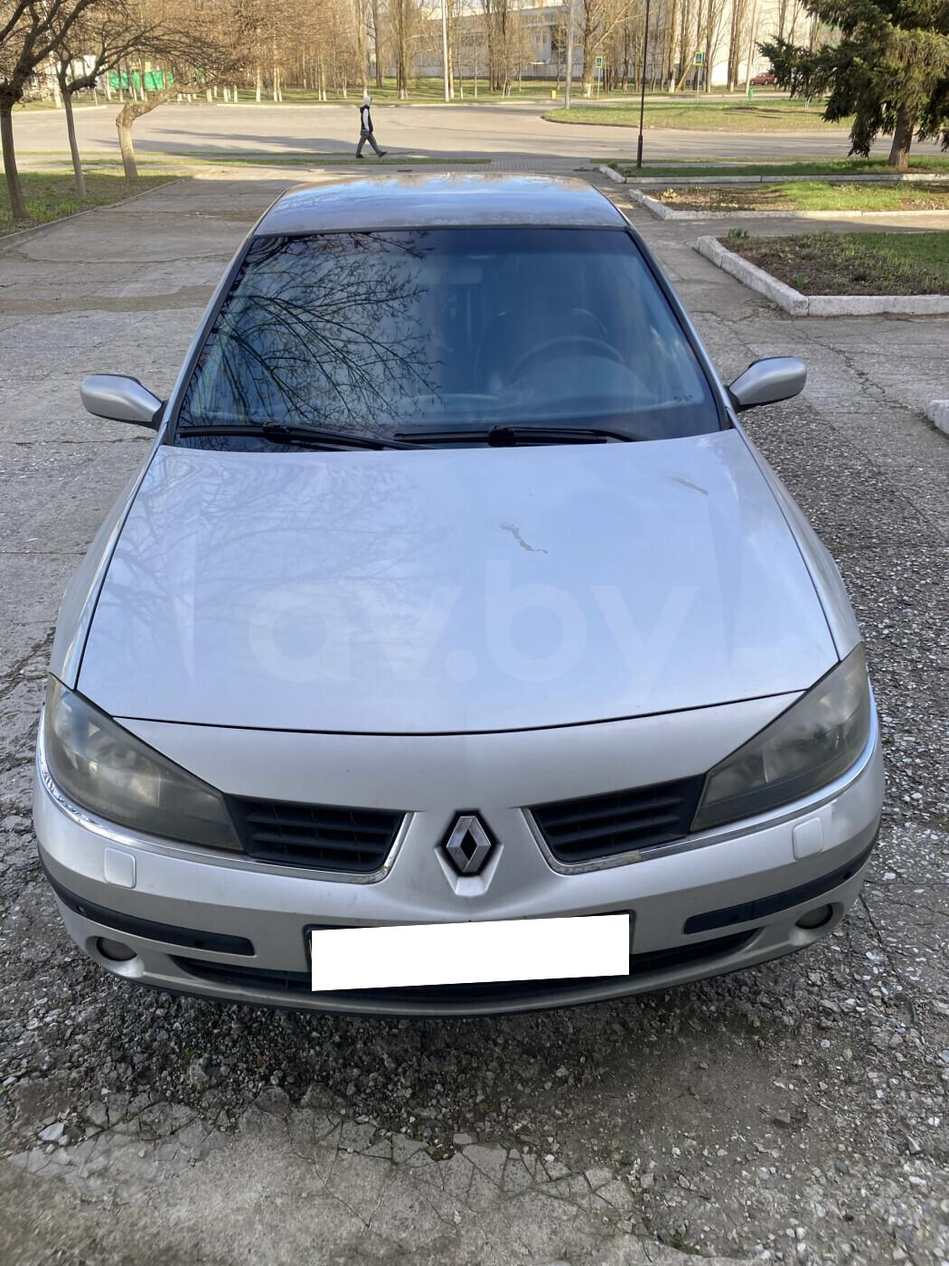Laguna_2005-2007: (34, 163, 886, 1031)
